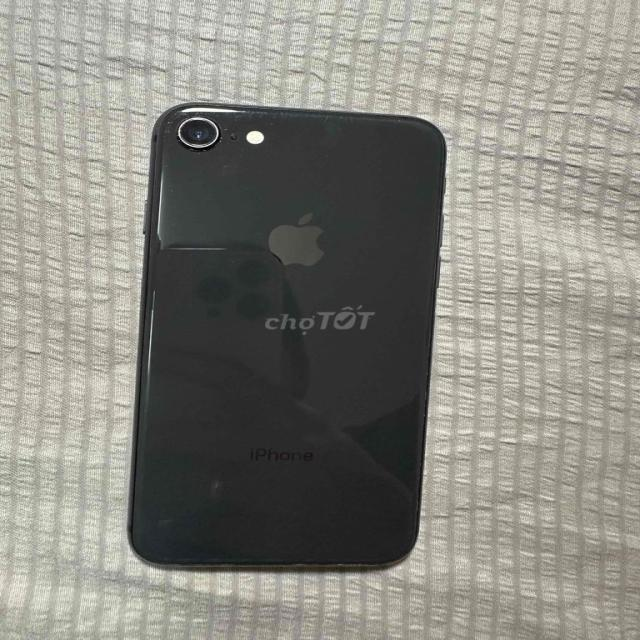gen_7_8: (107, 100, 452, 574)
